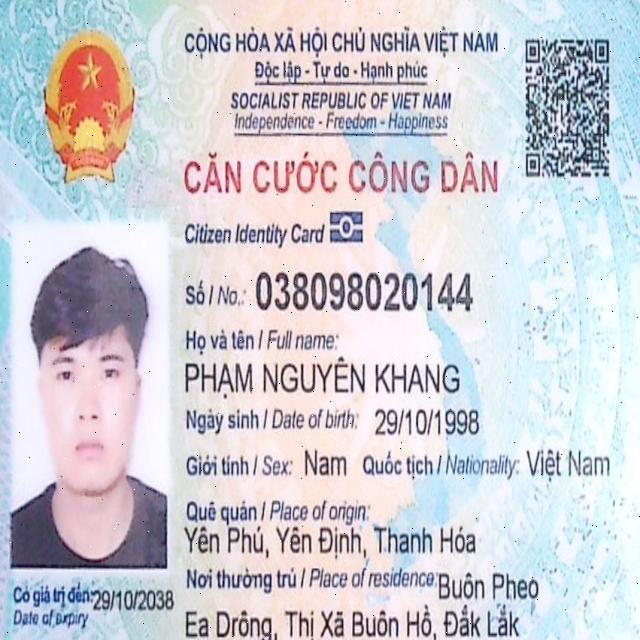current_place: (185, 605, 526, 640), (438, 568, 542, 603)
dob: (373, 403, 481, 440)
expire_date: (94, 583, 174, 614)
gender: (304, 445, 348, 479)
id: (256, 264, 475, 314)
name: (182, 355, 463, 398)
nationality: (526, 445, 611, 482)
origin_place: (182, 522, 477, 561)
